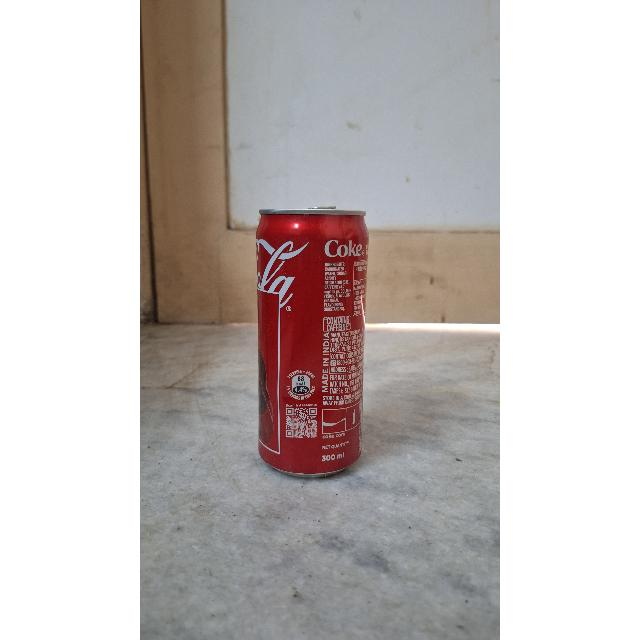Coca Cola: (254, 212, 366, 478)
